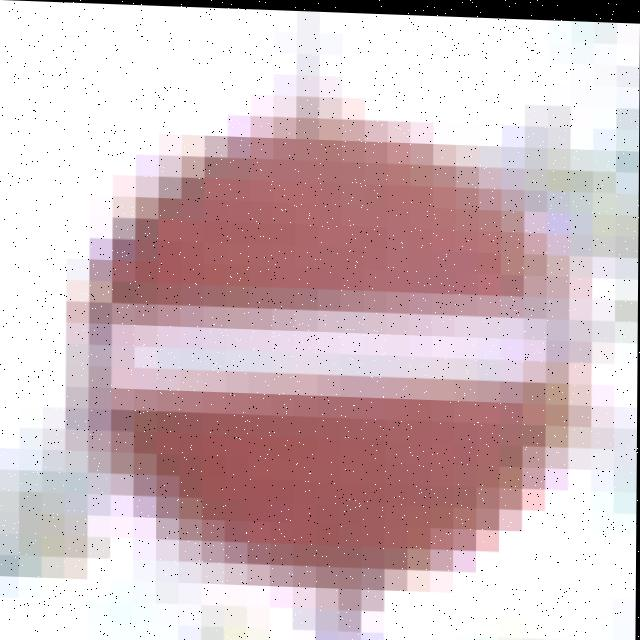road_rough: (71, 85, 591, 579)
